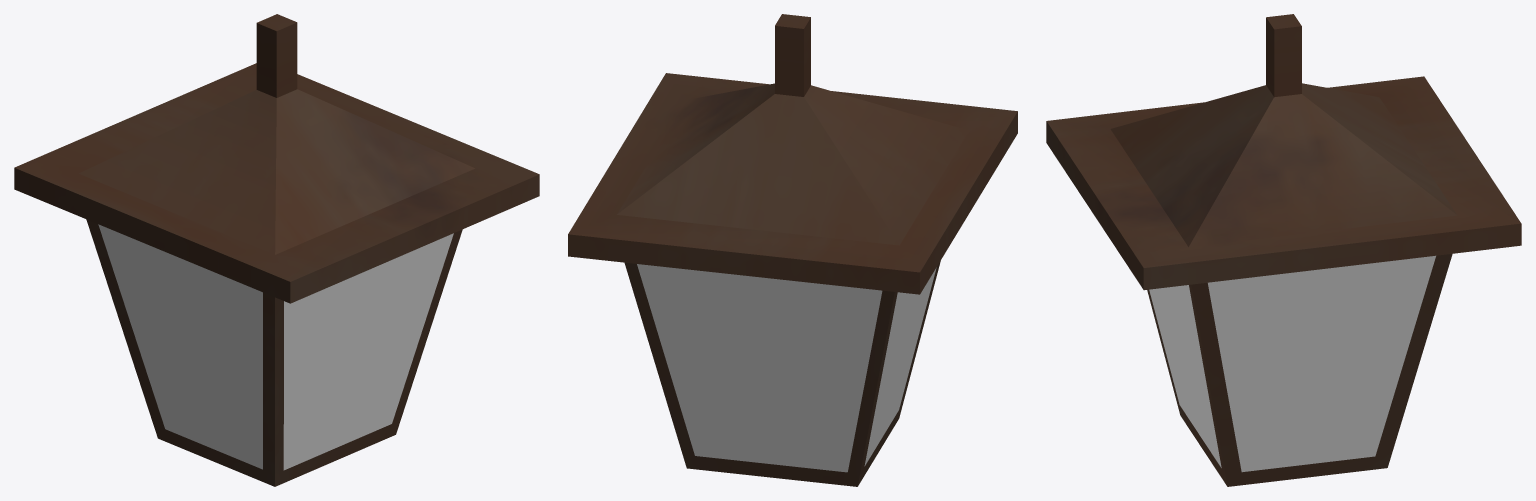
The model's file is lampu.fbx.
3 renders of one model, left to right at view 1: azimuth 30°, elevation 25°; view 2: azimuth 150°, elevation 25°; view 3: azimuth 270°, elevation 25°, orthographic.
Parts seen in each view (by area): view 1: Cube.009; view 2: Cube.009; view 3: Cube.009.
Boxes of the visible parts, left/top/right/bottom form: Cube.009: left=14, top=14, right=539, bottom=486; Cube.009: left=568, top=14, right=1017, bottom=486; Cube.009: left=1046, top=14, right=1521, bottom=486.
Size of the model in its own units: 262 by 268 by 275.
